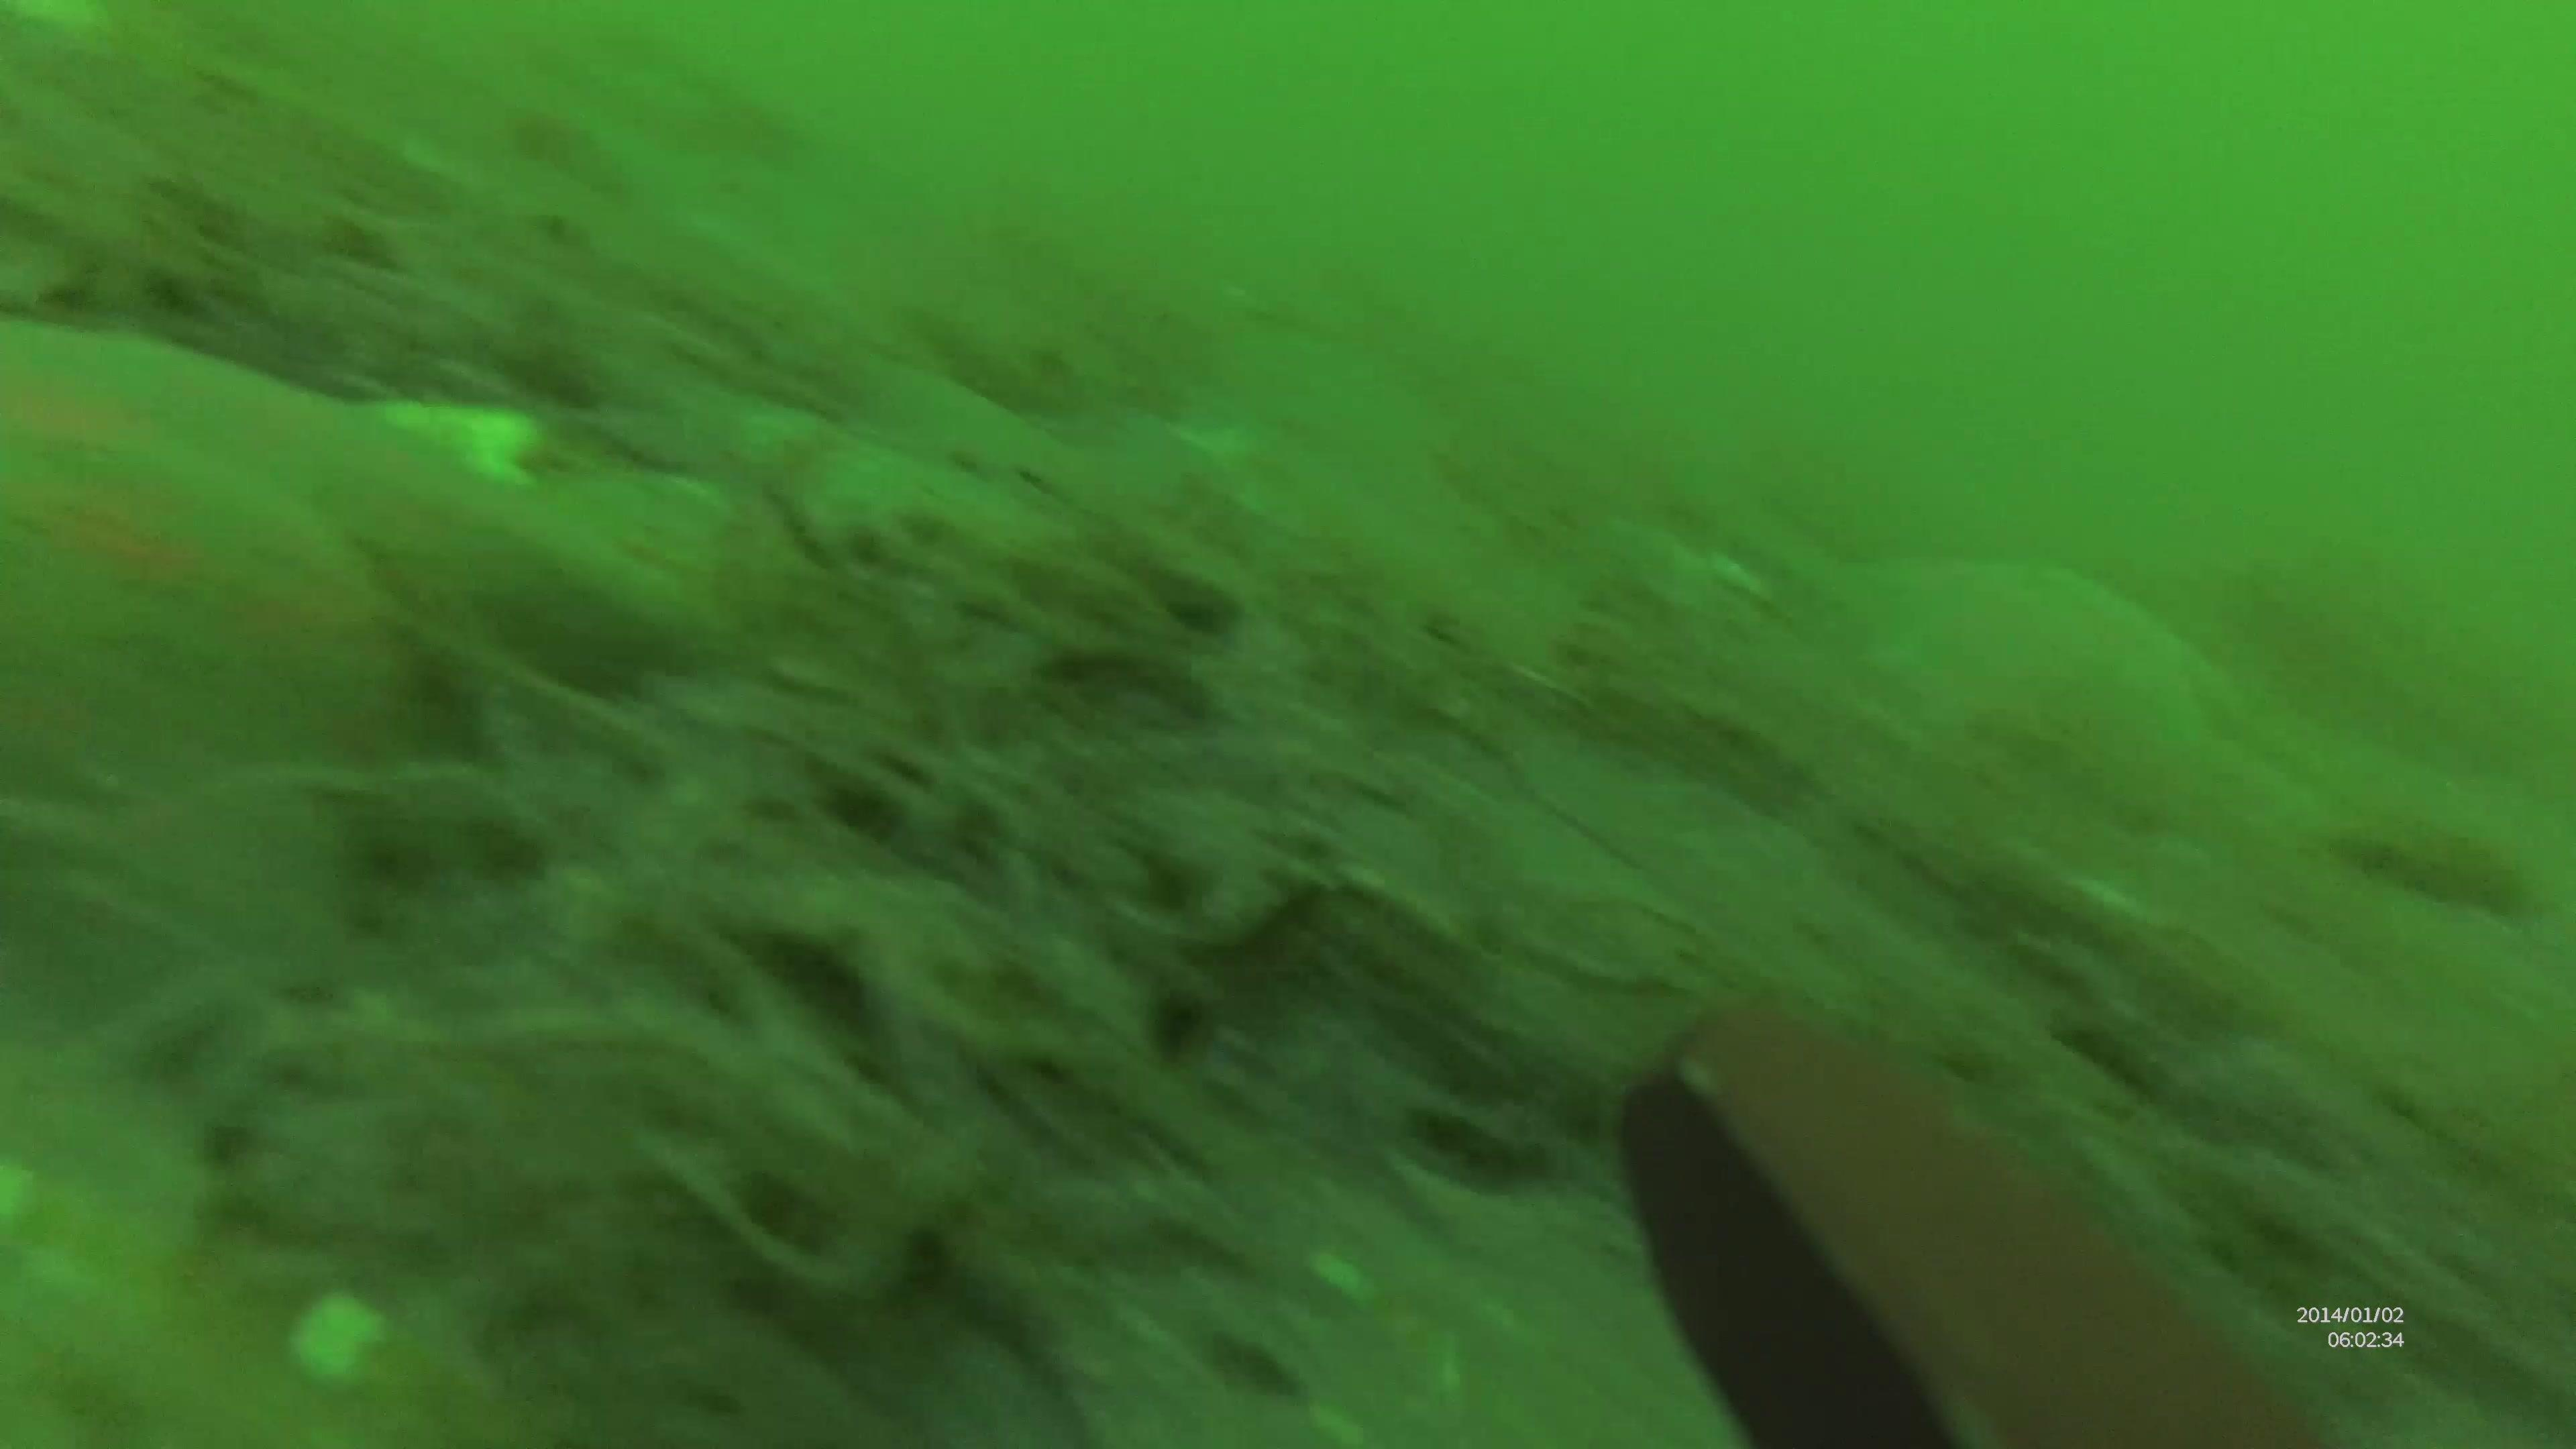echinus: (1412, 1108, 1520, 1191), (1150, 985, 1217, 1062)
holothurian: (2346, 814, 2528, 922)
scallop: (283, 1299, 389, 1389)
starfish: (7, 304, 736, 1001), (1856, 545, 2245, 789)
